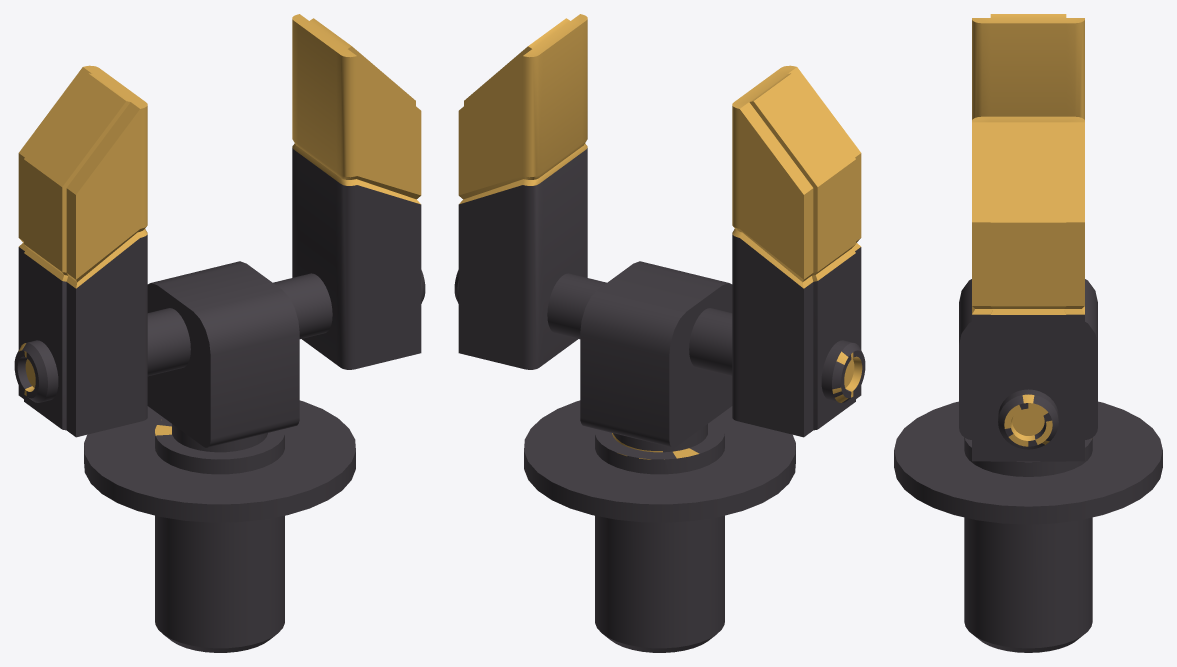
File: armExtended.fbx
3 views of the same model, side by side, from view 1: azimuth 30°, elevation 25°; view 2: azimuth 150°, elevation 25°; view 3: azimuth 270°, elevation 25° (orthographic).
Parts seen in each view (by area): view 1: arm.045; view 2: arm.045; view 3: arm.045.
Part boxes in pixels (x1,y1,x2,y2): arm.045: (14, 14, 425, 652); arm.045: (454, 14, 865, 652); arm.045: (894, 14, 1162, 652).
Bounding box in the file's own units: 204 × 125 × 287.
